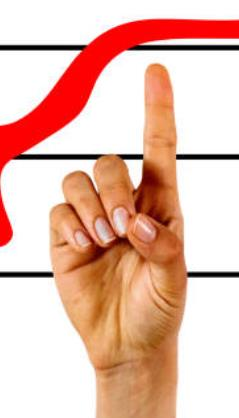up: (46, 61, 187, 368)
